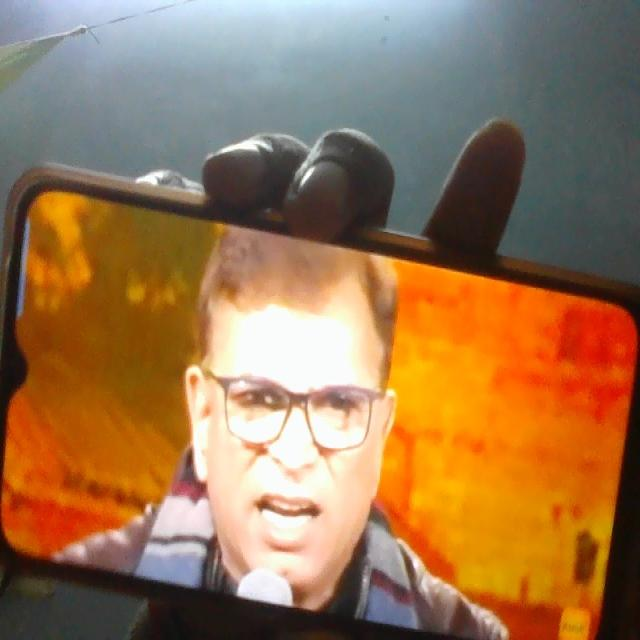fake: (186, 201, 405, 616)
